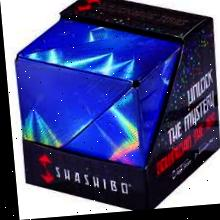cube: (9, 0, 220, 219)
